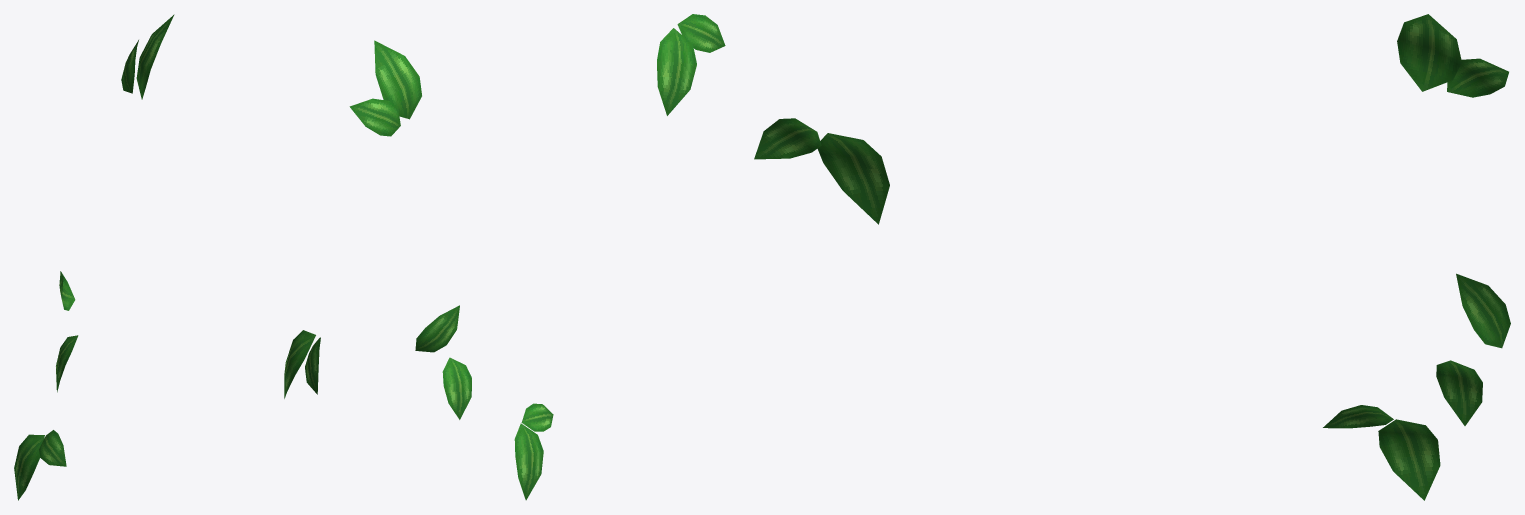
The model's file is EKH_BARRELROOM_PS_JA1_LEAVES847746.fbx.
3 views of the same model, side by side, from view 1: azimuth 30°, elevation 25°; view 2: azimuth 150°, elevation 25°; view 3: azimuth 270°, elevation 25° (orthographic). The views are drawn at different scales.
Parts seen in each view (by area): view 1: EKH_BARRELROOM_PS_JA1_LEAVES847746; view 2: EKH_BARRELROOM_PS_JA1_LEAVES847746; view 3: EKH_BARRELROOM_PS_JA1_LEAVES847746.
Part boxes in pixels (x1,y1,x2,y2): EKH_BARRELROOM_PS_JA1_LEAVES847746: (14, 14, 320, 500); EKH_BARRELROOM_PS_JA1_LEAVES847746: (349, 14, 725, 500); EKH_BARRELROOM_PS_JA1_LEAVES847746: (754, 14, 1510, 500).
Size of the model in its own units: 5479 by 14422 by 16812.
Materials: 1 (1 with a texture image).
